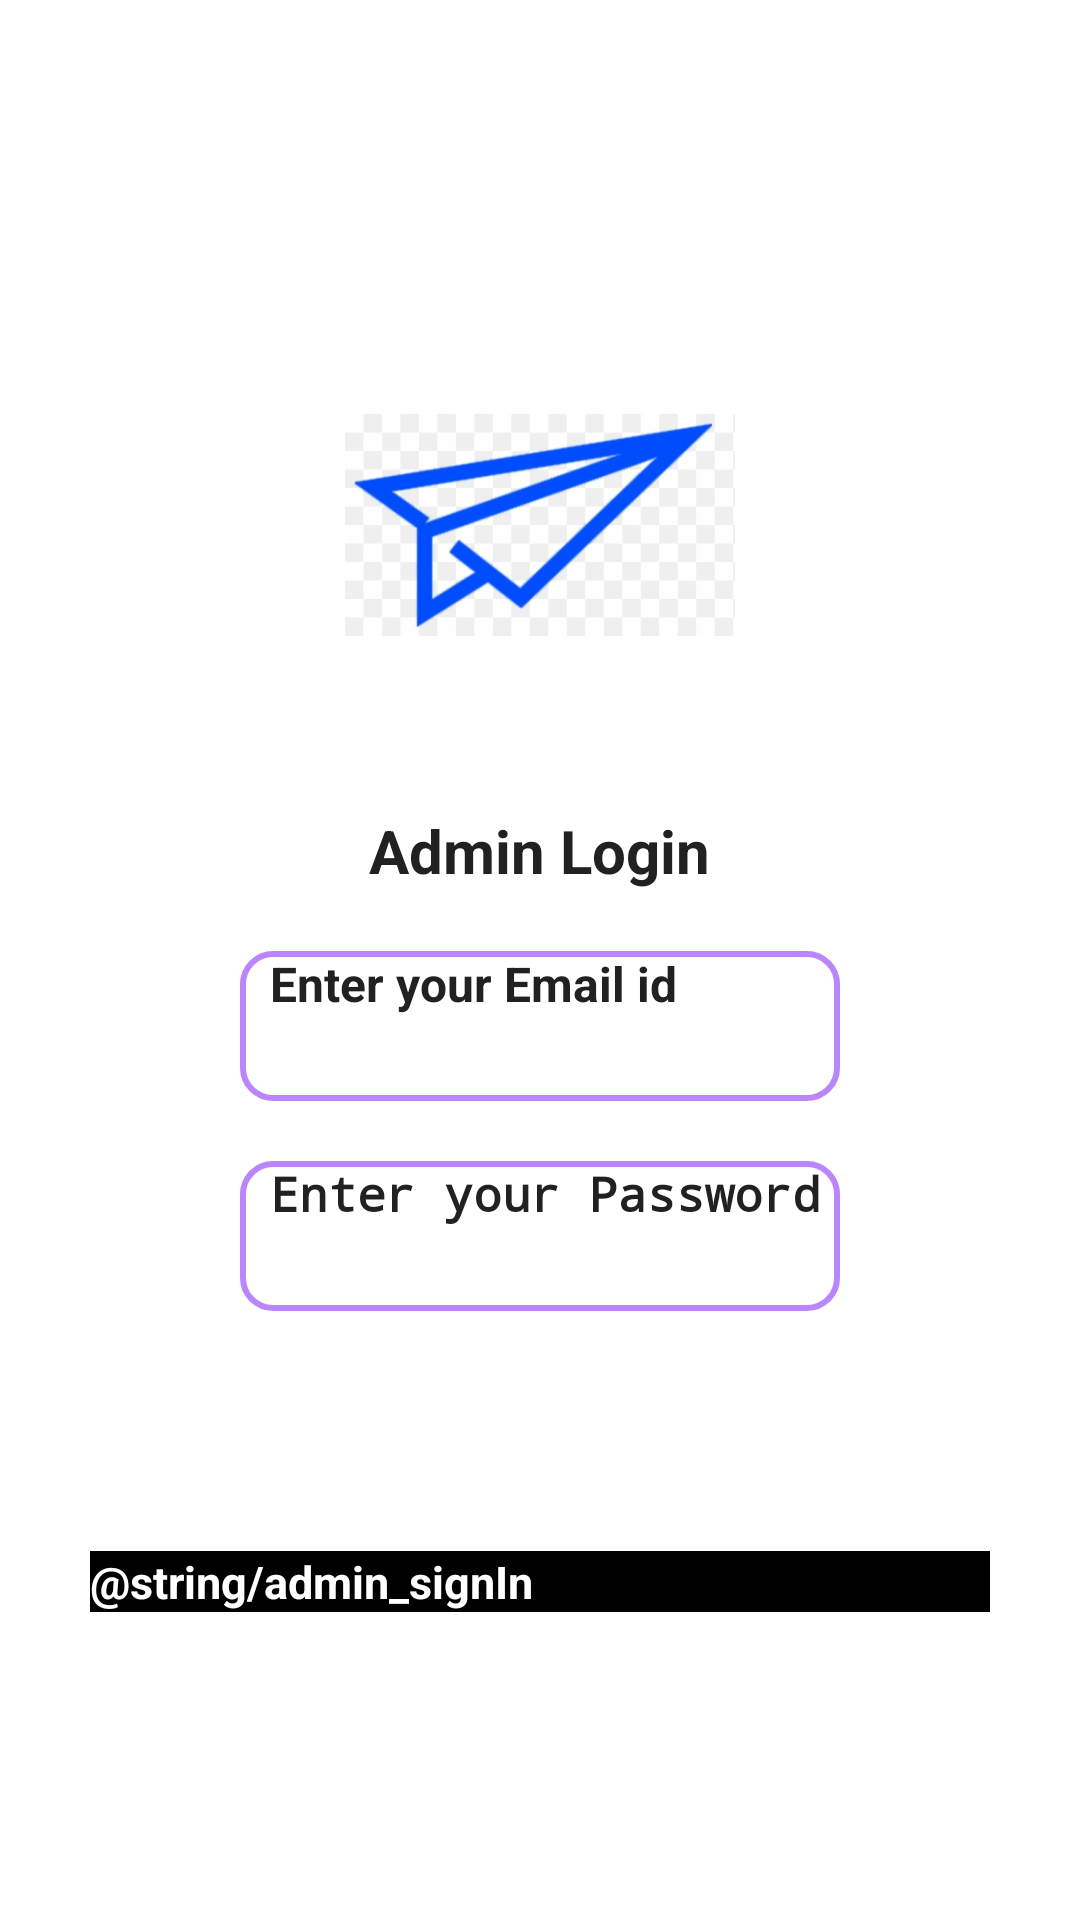

Screen size 1080px x 1920px. Icon name, then its box in pixels as rect(x1, y1, x2, y2):
sent: rect(354, 423, 713, 627)
